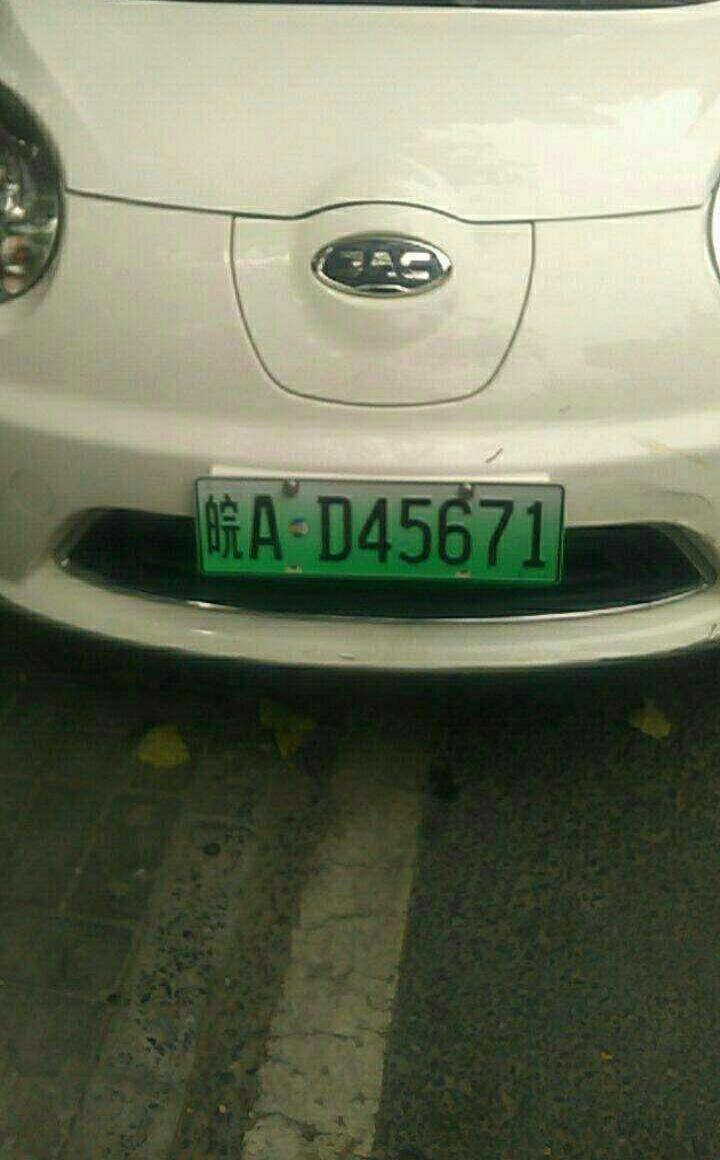car_id: (198, 477, 564, 583)
